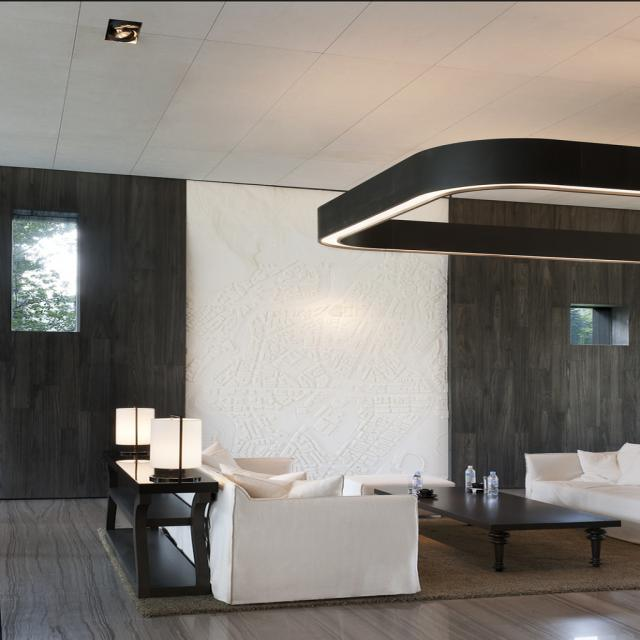desk: (116, 465, 229, 607)
